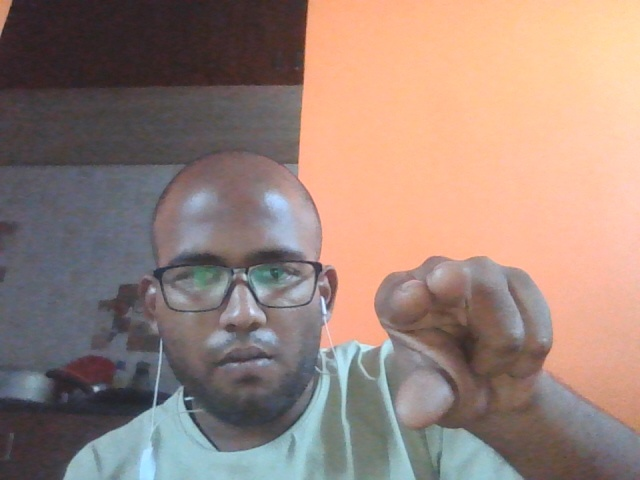no: (327, 231, 606, 465)
